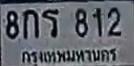1: (92, 7, 101, 36)
2: (107, 6, 120, 36)
8: (5, 9, 18, 38), (74, 7, 87, 36)
A01: (22, 9, 38, 38)
A35: (41, 8, 58, 37)
BKK: (19, 45, 118, 64)
